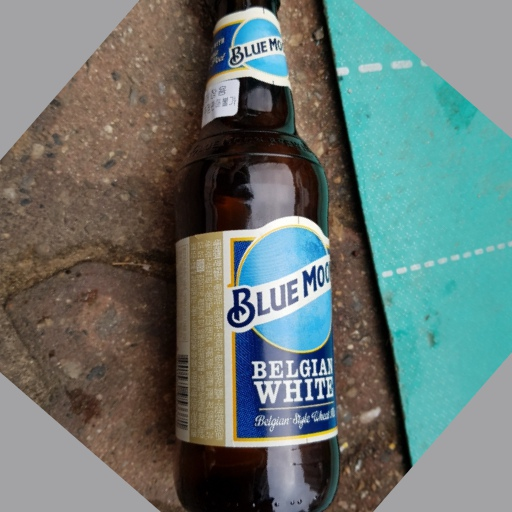Glass_1: (164, 1, 341, 509)
